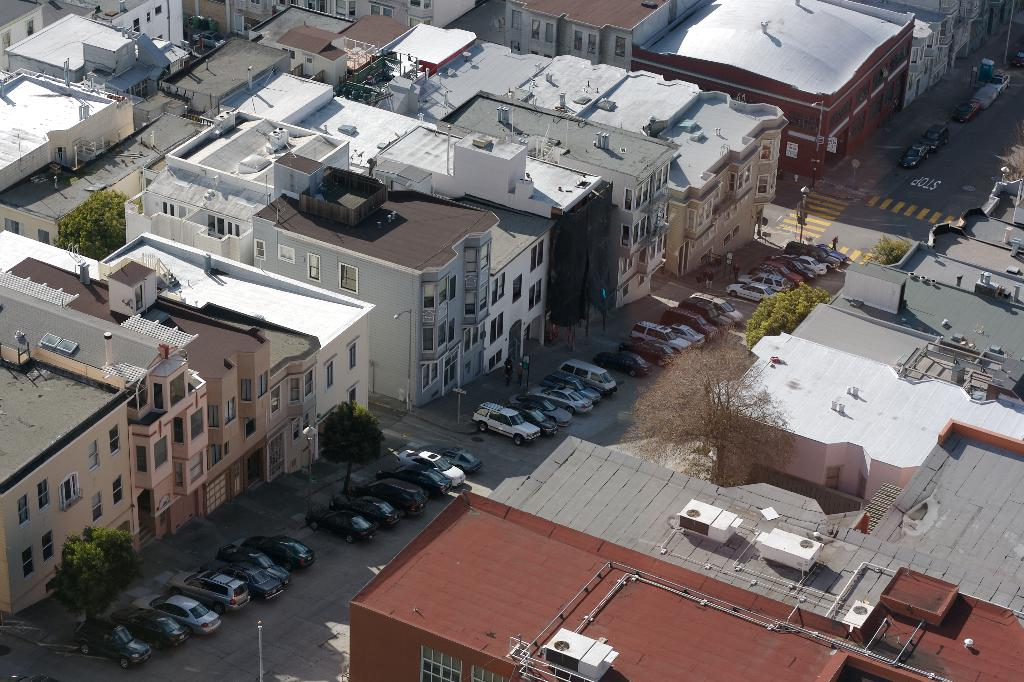Car: (80, 529, 316, 671), (304, 440, 481, 544), (472, 350, 618, 448), (593, 288, 743, 379), (729, 235, 848, 302), (906, 138, 929, 165), (927, 118, 945, 143)
